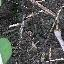Purslane: (0, 0, 22, 64)
